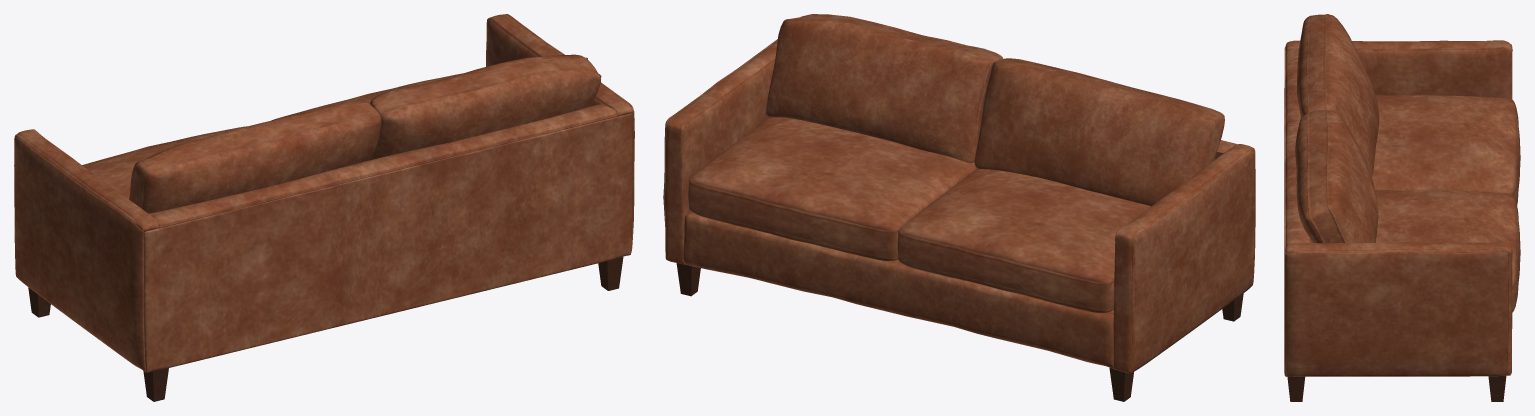
Rendered from abo_B07B4L6C7R.glb.
The picture shows the model from 3 angles, left to right: view 1: azimuth 30°, elevation 25°; view 2: azimuth 150°, elevation 25°; view 3: azimuth 270°, elevation 25°; orthographic projection. The views are drawn at different scales.
Visible parts, largest first — view 1: RootNode; view 2: RootNode; view 3: RootNode.
Boxes of the visible parts, x1,y1,x2,y2 form: RootNode: (14,14,634,401); RootNode: (663,14,1255,401); RootNode: (1284,14,1520,401).
Size of the model in its own units: 1.97 by 0.8626 by 0.9226.
Materials: 1 (1 with a texture image).
